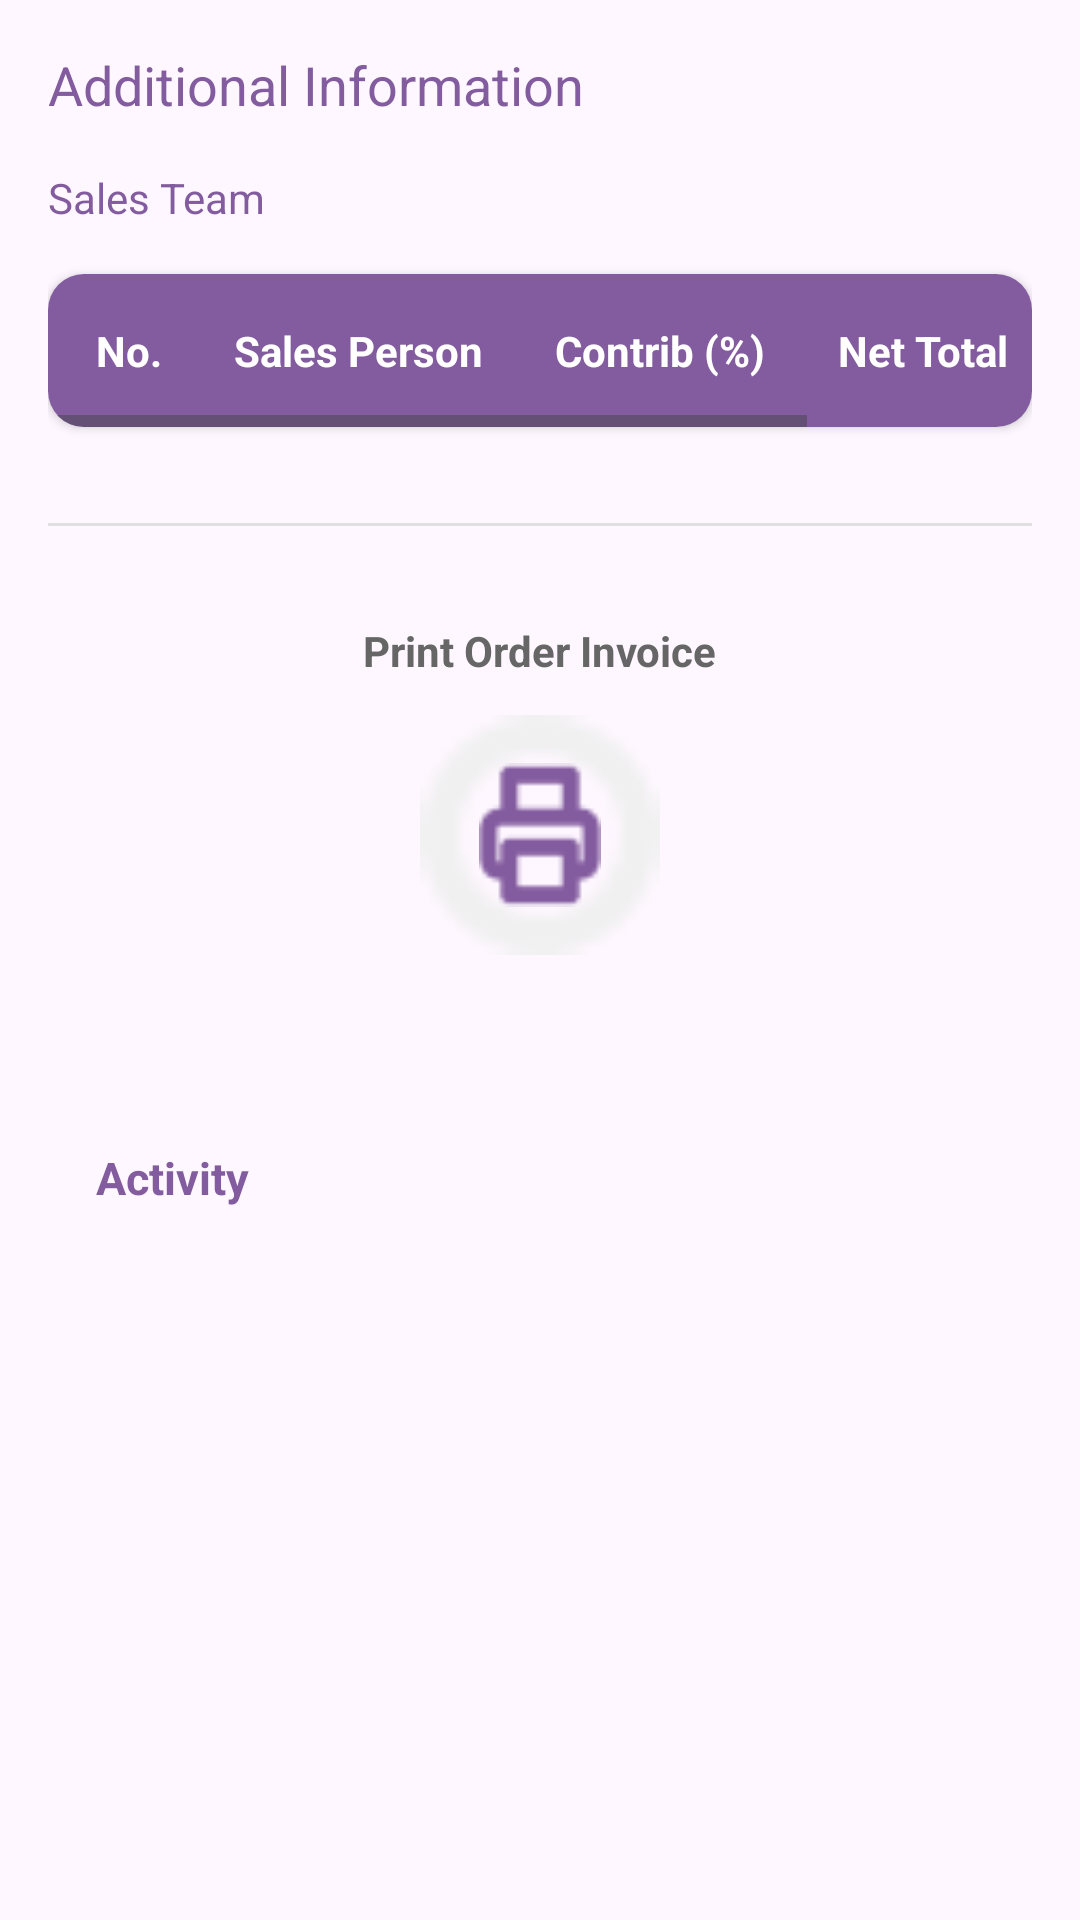

Where to tap for icons on this 1080x1920 app screen, as (x=x, y=y):
printer animation: (x=540, y=835)
